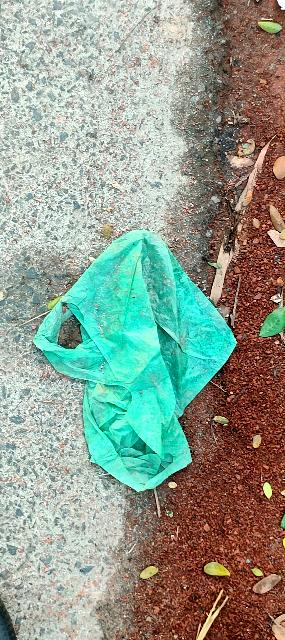polythene: (0, 212, 285, 523)
